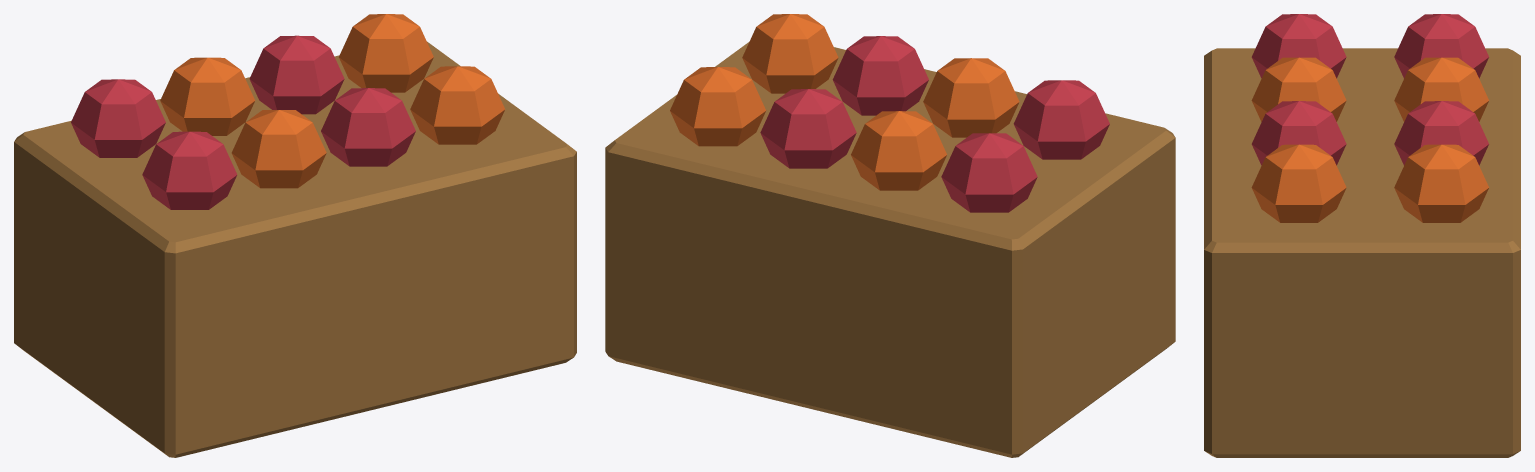
Rendered from produce_crate.glb.
3 renders of one model, left to right at view 1: azimuth 30°, elevation 25°; view 2: azimuth 150°, elevation 25°; view 3: azimuth 270°, elevation 25°, orthographic.
Visible parts, largest first — view 1: produce_crate; view 2: produce_crate; view 3: produce_crate.
Boxes of the visible parts, box(x1,y1,x2,y2) form: produce_crate: box(14, 14, 576, 457); produce_crate: box(605, 14, 1175, 457); produce_crate: box(1204, 14, 1520, 457).
Size of the model in its own units: 0.6 by 0.39 by 0.4.
